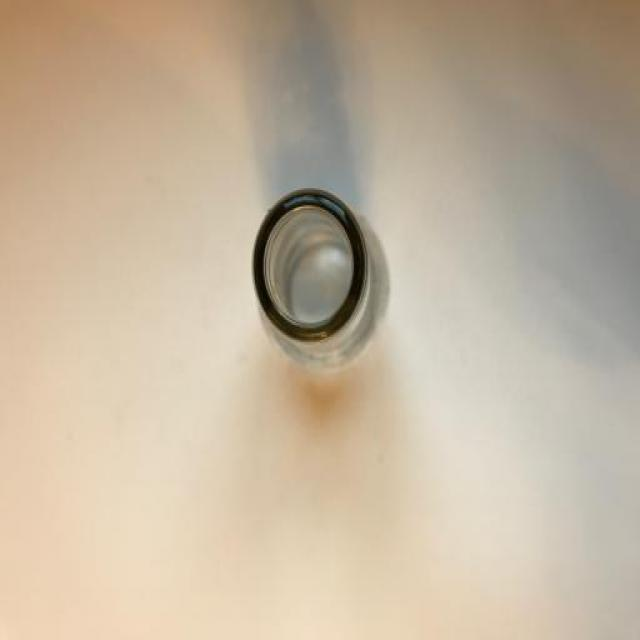Waste: (254, 188, 390, 368)
